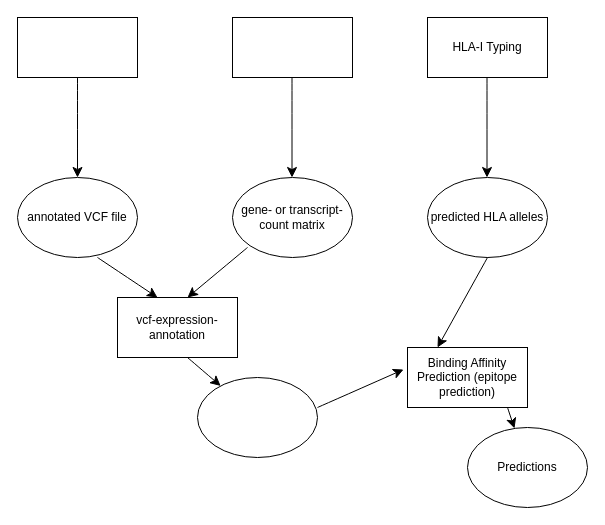
Some shapes in this 605 by 525 pixel diagram are drawn without their labels. The shapes that lost their labels are listed below. From the top down, each one's centre as x and y in pixels, then its label:
At pixel 77 47: "Somatic variant calling (WES)".
At pixel 292 47: "Transcript quantification (rna-seq)".
At pixel 257 417: "annotated VCF with expression info".
